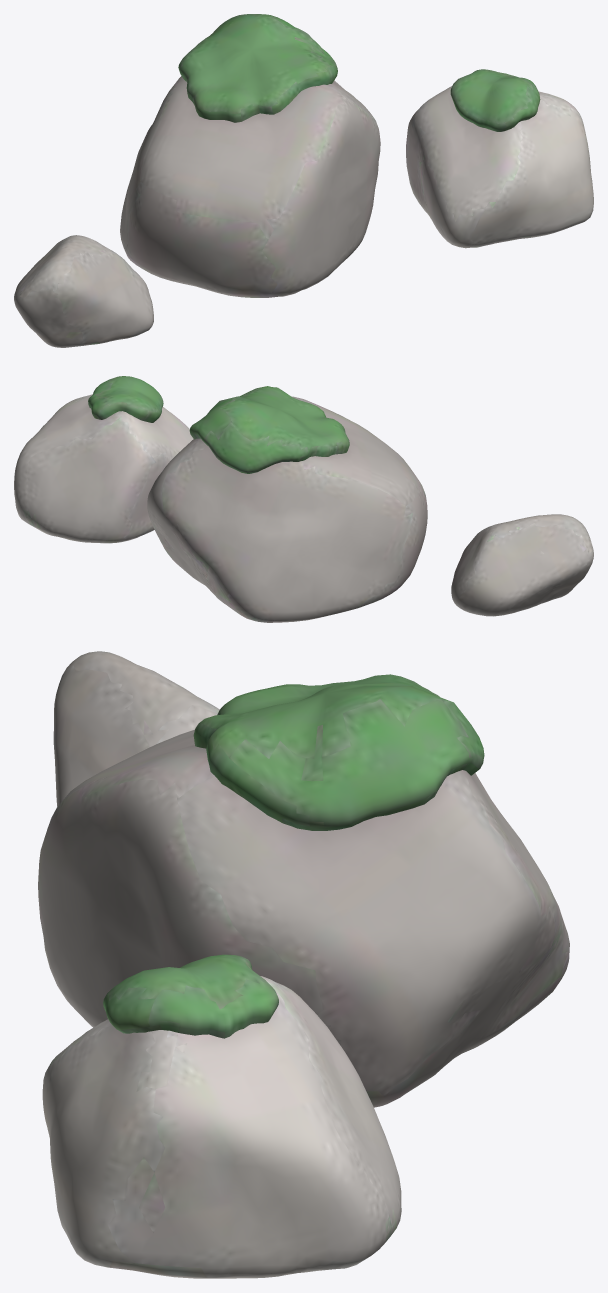
File: boulders.glb
3 renders of one model, top to bottom at view 1: azimuth 30°, elevation 25°; view 2: azimuth 150°, elevation 25°; view 3: azimuth 270°, elevation 25°, orthographic. The views are drawn at different scales.
Visible parts, largest first — view 1: boulder-rock-set_body; view 2: boulder-rock-set_body; view 3: boulder-rock-set_body.
Boxes of the visible parts, box(x1,y1,x2,y2) form: boulder-rock-set_body: box(14, 14, 593, 347); boulder-rock-set_body: box(14, 376, 593, 622); boulder-rock-set_body: box(38, 651, 569, 1278).
Size of the model in its own units: 3.42 by 1.14 by 1.5.
Materials: 1 (1 with a texture image).
